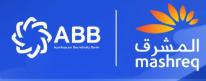ABB: (10, 16, 53, 60)
